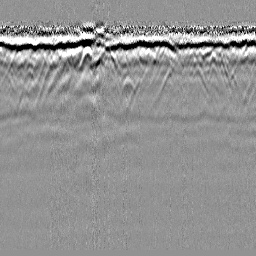cavity: (120, 74, 135, 95)
